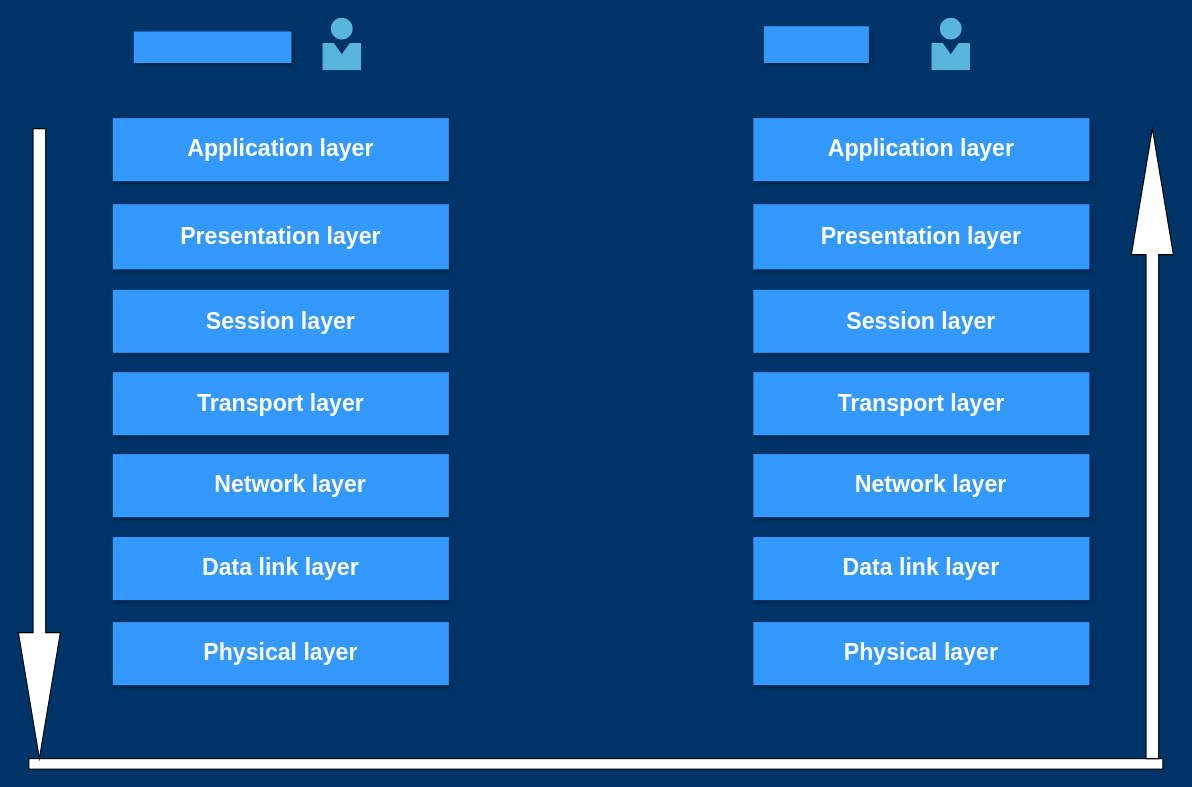
Image size: 1192x787. Some labels were removed from this diagram. Here are the shapes that lost their labels. From the top down, the centre of each, then its label:
pixel 213 48: Tranasmit
pixel 817 46: Receive
